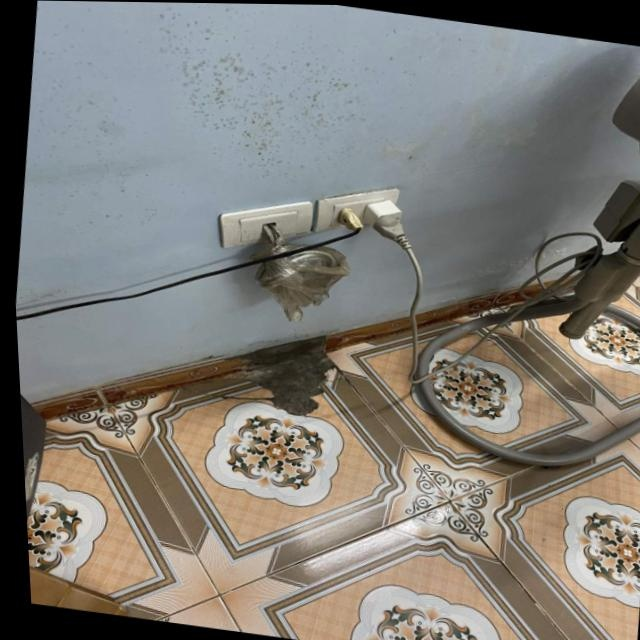outlet: (310, 176, 404, 243)
